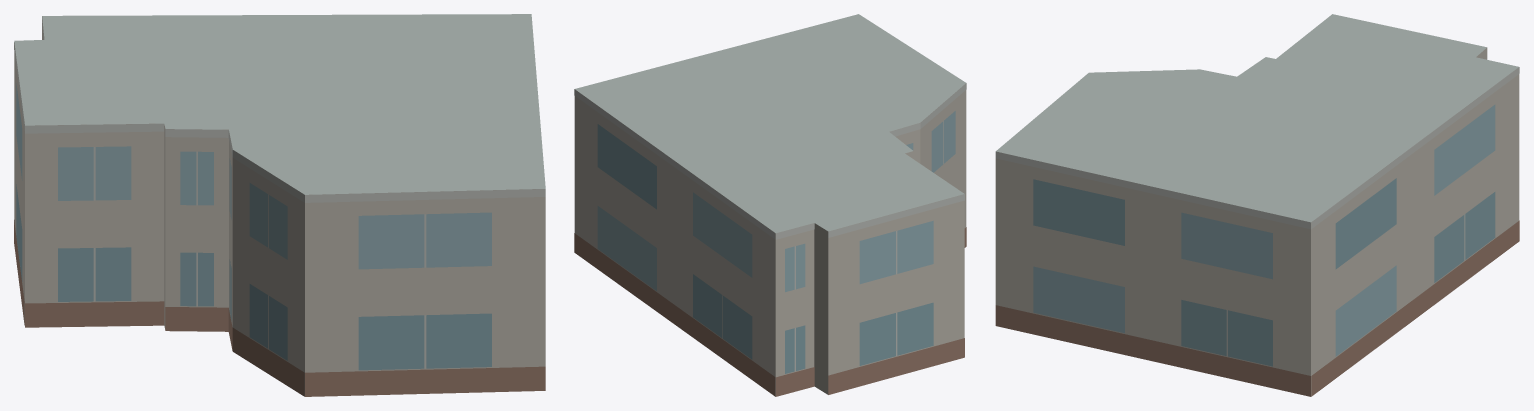
File: survey-upis-32649862.glb
3 renders of one model, left to right at view 1: azimuth 30°, elevation 25°; view 2: azimuth 150°, elevation 25°; view 3: azimuth 270°, elevation 25°, orthographic. The views are drawn at different scales.
Visible parts, largest first — view 1: survey-upis-32649862.tmp; view 2: survey-upis-32649862.tmp; view 3: survey-upis-32649862.tmp.
Part boxes in pixels (left/top/right/bottom): survey-upis-32649862.tmp: left=14, top=14, right=545, bottom=396; survey-upis-32649862.tmp: left=574, top=14, right=966, bottom=396; survey-upis-32649862.tmp: left=995, top=14, right=1519, bottom=396.
Size of the model in its own units: 15.63 by 6.1 by 16.6.
